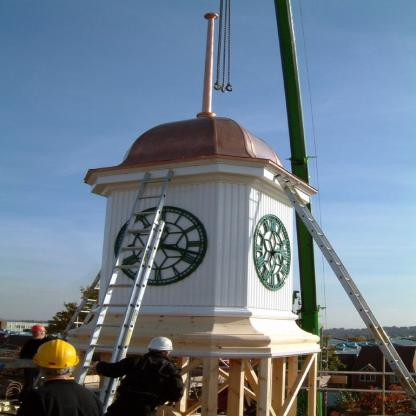Helmet: (31, 337, 79, 369), (150, 337, 174, 353)
